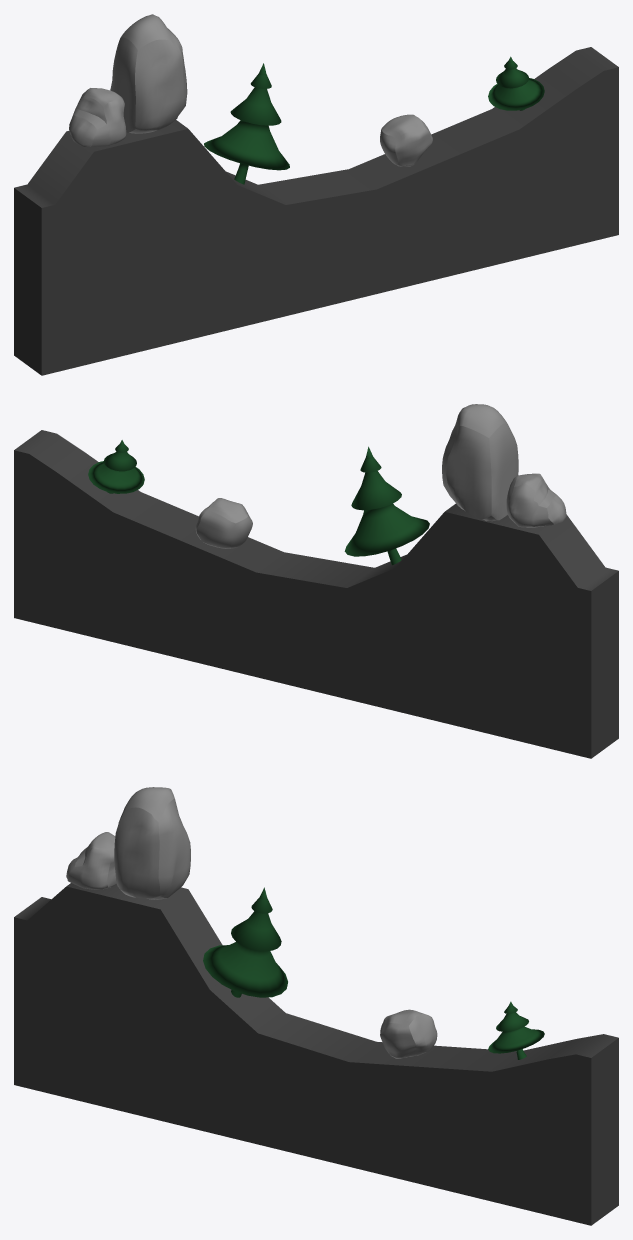
Rendered from Plateau_L_1.fbx.
3 renders of one model, top to bottom at view 1: azimuth 30°, elevation 25°; view 2: azimuth 150°, elevation 25°; view 3: azimuth 330°, elevation 25°, orthographic.
Visible parts, largest first — view 1: pCube1, Cactus:pCube2, trees:pCylinder2, Cactus:pCube4, Cactus:pCube3, trees:pCylinder3; view 2: pCube1, Cactus:pCube2, trees:pCylinder2, Cactus:pCube4, Cactus:pCube3, trees:pCylinder3; view 3: pCube1, Cactus:pCube2, trees:pCylinder2, Cactus:pCube3, Cactus:pCube4, trees:pCylinder3.
Part boxes in pixels (x1=…): pCube1: x1=14, y1=47, x2=618, y2=375; Cactus:pCube2: x1=110, y1=14, x2=187, y2=133; trees:pCylinder2: x1=204, y1=63, x2=289, y2=184; Cactus:pCube4: x1=69, y1=88, x2=126, y2=147; Cactus:pCube3: x1=380, y1=114, x2=432, y2=166; trees:pCylinder3: x1=488, y1=56, x2=544, y2=110; pCube1: x1=14, y1=430, x2=618, y2=758; Cactus:pCube2: x1=442, y1=404, x2=518, y2=521; trees:pCylinder2: x1=344, y1=446, x2=429, y2=565; Cactus:pCube4: x1=506, y1=473, x2=566, y2=527; Cactus:pCube3: x1=195, y1=498, x2=252, y2=548; trees:pCylinder3: x1=88, y1=440, x2=144, y2=493; pCube1: x1=14, y1=883, x2=618, y2=1225; Cactus:pCube2: x1=114, y1=787, x2=190, y2=899; trees:pCylinder2: x1=203, y1=887, x2=287, y2=997; Cactus:pCube3: x1=380, y1=1009, x2=437, y2=1058; Cactus:pCube4: x1=66, y1=832, x2=116, y2=889; trees:pCylinder3: x1=488, y1=1001, x2=544, y2=1059.
Bounding box in the file's own units: 36 × 18.76 × 4.83.
